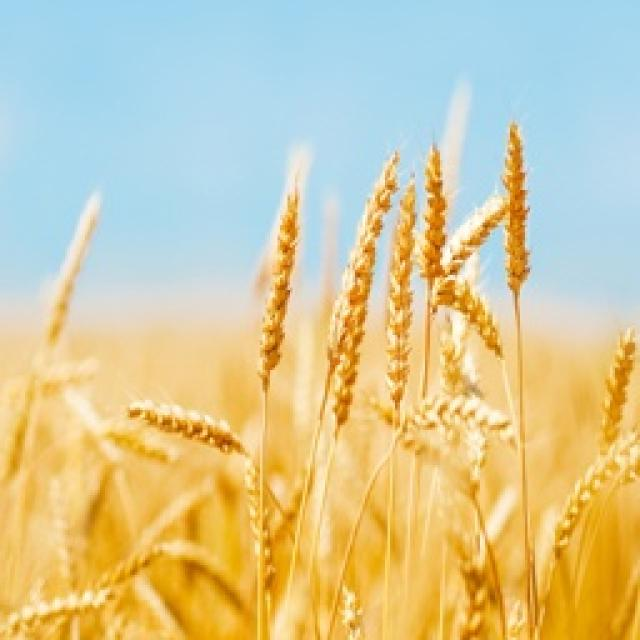Healthy Wheat: (0, 115, 638, 637)
